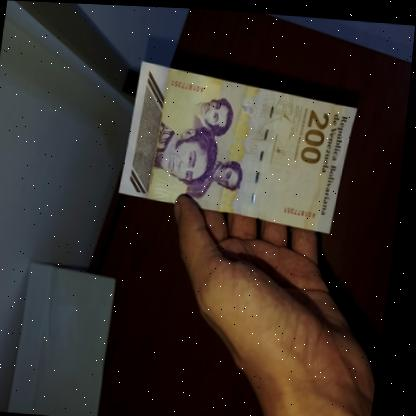two_hundred-front-vef: (117, 58, 363, 232)
